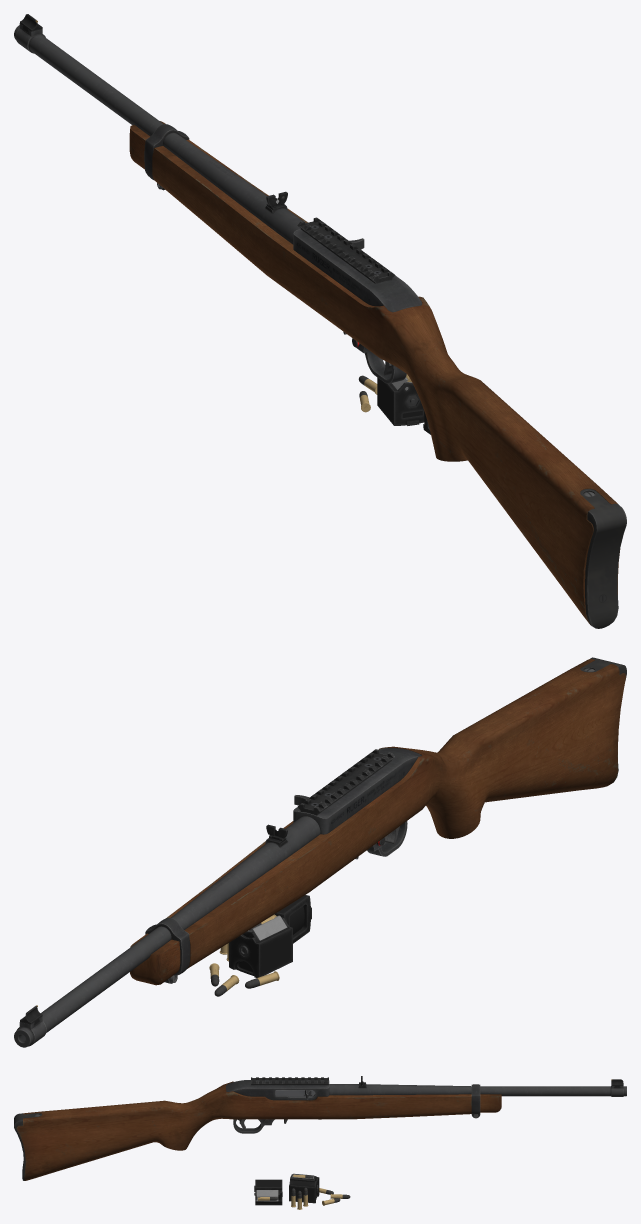
3 renders of one model, top to bottom at view 1: azimuth 30°, elevation 25°; view 2: azimuth 150°, elevation 25°; view 3: azimuth 270°, elevation 25°, orthographic. The views are drawn at different scales.
Parts seen in each view (by area): view 1: Object_2, Object_4, Object_7; view 2: Object_2, Object_7, Object_4, Object_5; view 3: Object_2, Object_7, Object_4, Object_5, Object_3.
Part boxes in pixels (<box>): Object_2: <box>14,23,626,628</box>; Object_4: <box>20,14,394,283</box>; Object_7: <box>377,377,430,434</box>; Object_2: <box>14,657,626,1047</box>; Object_7: <box>229,895,311,977</box>; Object_4: <box>20,749,394,1026</box>; Object_5: <box>209,914,279,996</box>; Object_2: <box>14,1080,626,1180</box>; Object_7: <box>254,1173,319,1205</box>; Object_4: <box>251,1076,623,1087</box>; Object_5: <box>258,1174,350,1209</box>; Object_3: <box>233,1119,274,1133</box>.
Bounding box in the file's own units: 3.77 × 5.03 × 27.39.
4 materials, 4 textured.
